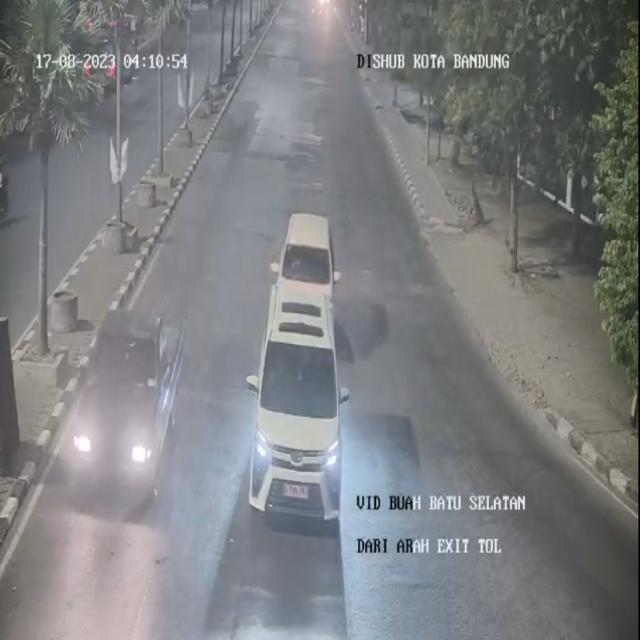cars: (247, 283, 358, 516), (61, 294, 191, 482), (267, 204, 350, 330)
